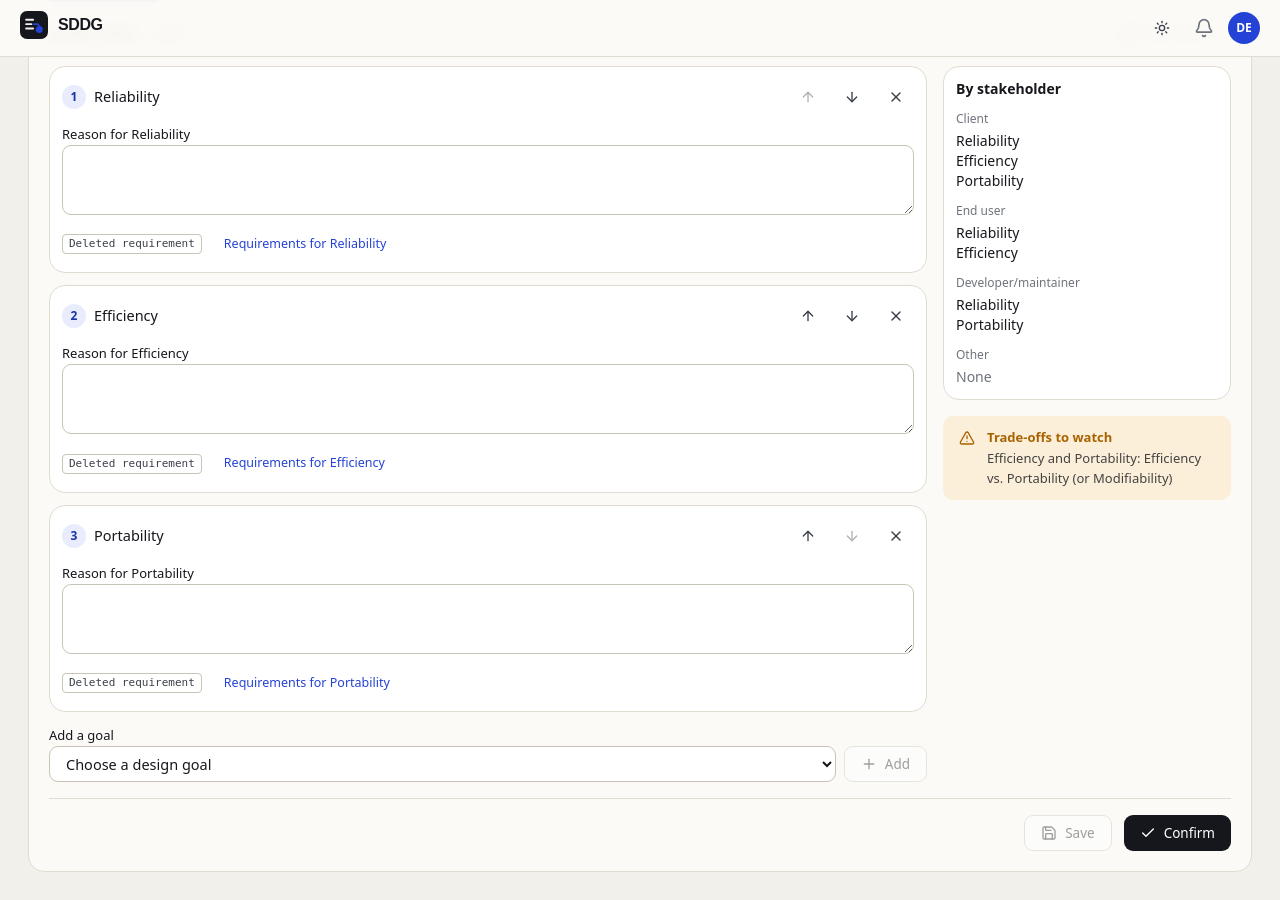
Scenario: Design page › shows the trade-offs and who each goal matters to, from the saved version
(page scrolled)
Expected: the list item "Efficiency vs. Portability (or Modifiability)" is shown, [987,449,1201,487]
Expected: the list item "Reliability" below "Client" is shown, [956,131,1019,150]
Click the button named "Remove Portability": coordinates (896, 536) [878,518,914,554]
(page scrolled)
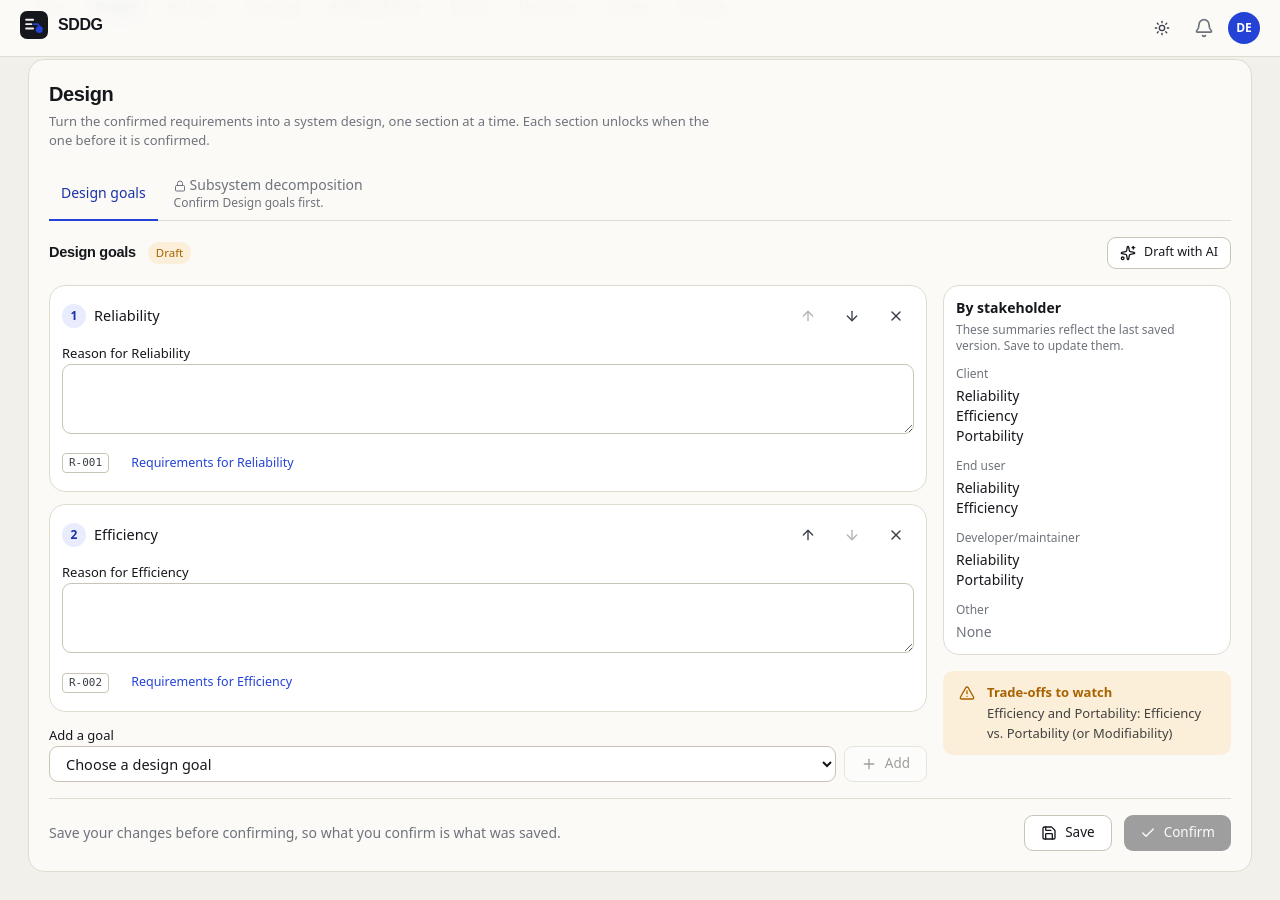
Expected: the text "reflect the last saved version" is shown, [956,321,1175,354]
